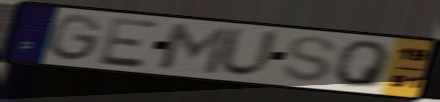E: (96, 15, 163, 70)
G: (47, 12, 105, 63)
M: (157, 21, 233, 76)
Q: (333, 40, 394, 90)
S: (279, 34, 340, 84)
U: (215, 25, 283, 80)
